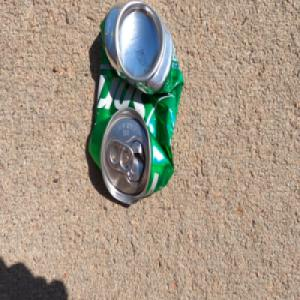SodaCan: (87, 0, 184, 207)
